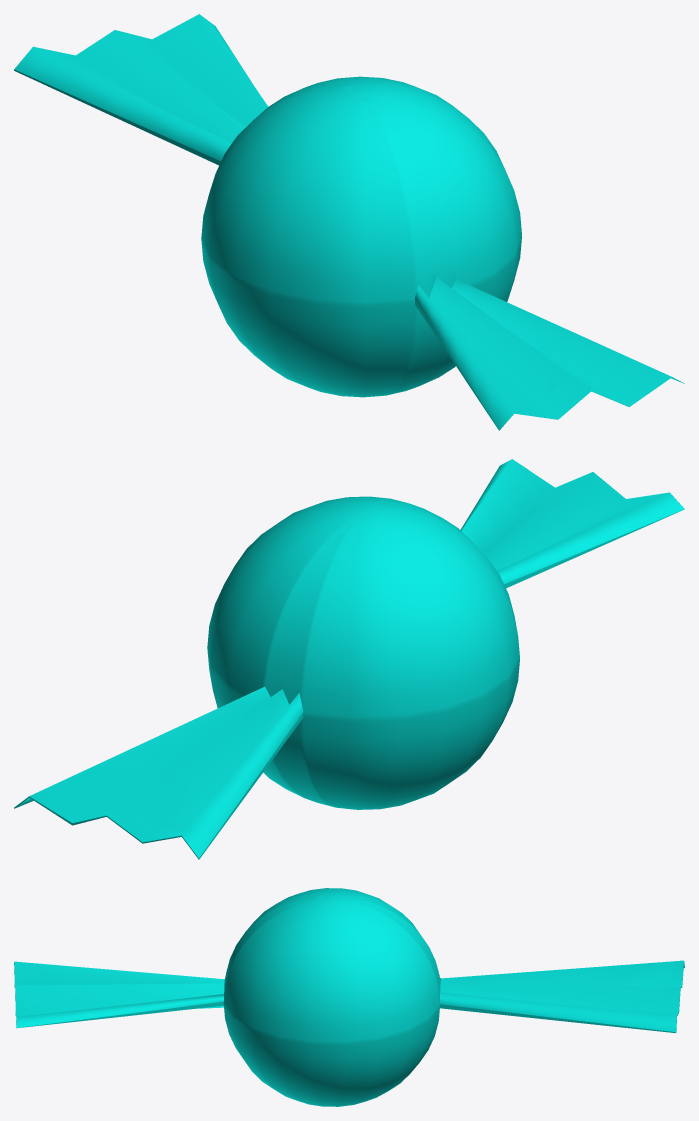
Rendered from Candy.fbx.
3 renders of one model, top to bottom at view 1: azimuth 30°, elevation 25°; view 2: azimuth 150°, elevation 25°; view 3: azimuth 270°, elevation 25°, orthographic. The views are drawn at different scales.
Visible parts, largest first — view 1: pSphere1; view 2: pSphere1; view 3: pSphere1.
Boxes of the visible parts, bbox=[...] form: pSphere1: bbox=[14, 14, 684, 430]; pSphere1: bbox=[14, 459, 684, 859]; pSphere1: bbox=[14, 888, 684, 1106].
Size of the model in its own units: 1.98 by 2 by 6.12.
